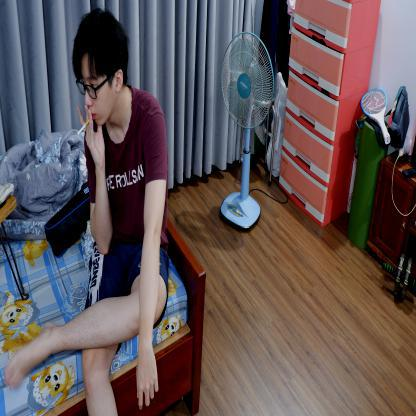cigarette: (76, 118, 90, 136)
person: (67, 5, 172, 415)
